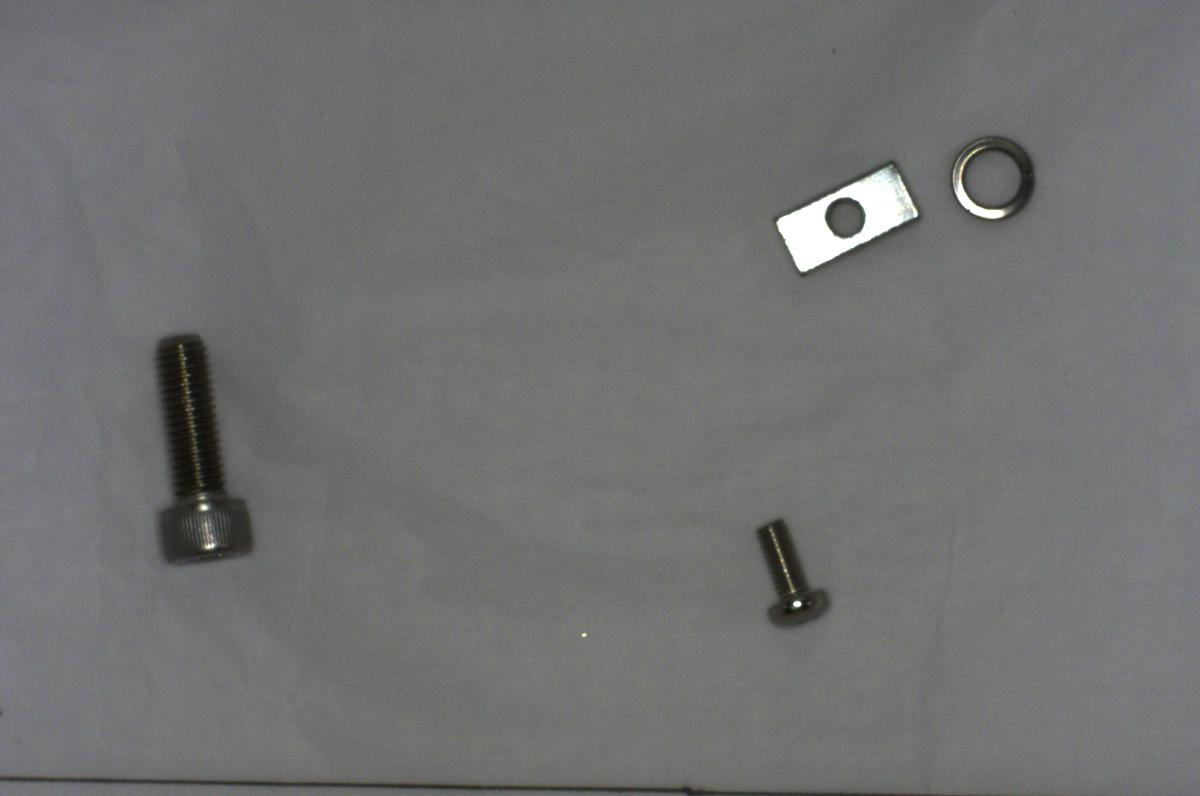Hexagon screw: (139, 323, 261, 570)
Rectangular nut: (773, 156, 922, 276)
Round head screw: (744, 510, 839, 629)
Spring washer: (944, 127, 1045, 232)
